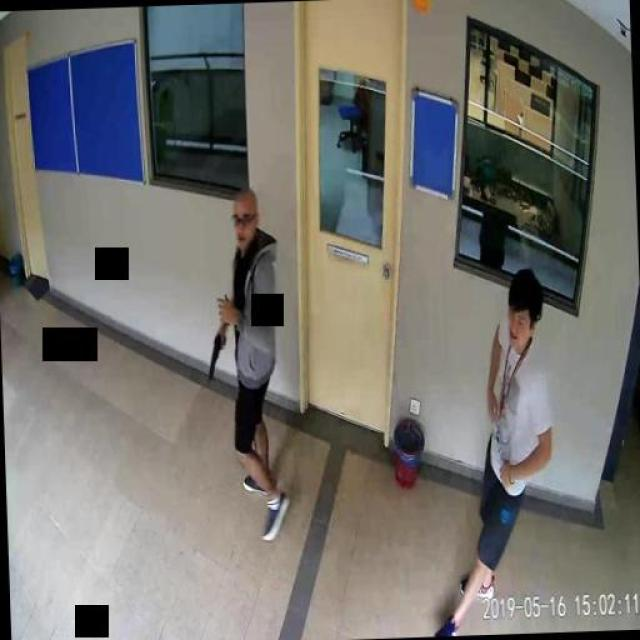gun: (206, 330, 226, 376)
